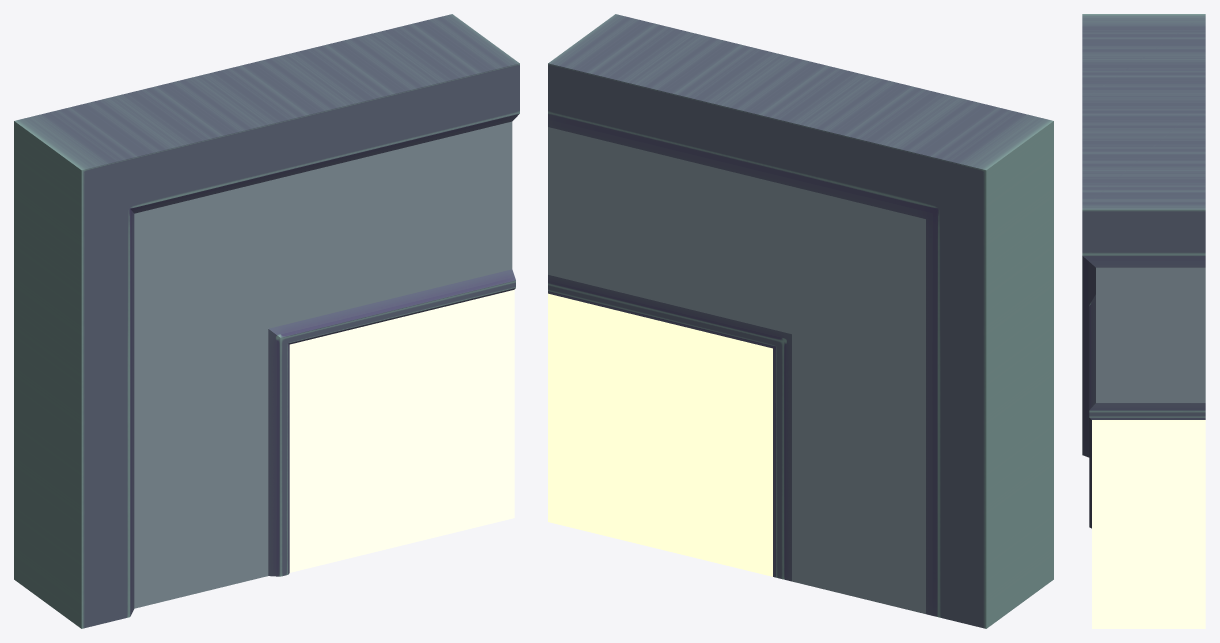
Rendered from celling1_low.fbx.
3 views of the same model, side by side, from view 1: azimuth 30°, elevation 25°; view 2: azimuth 150°, elevation 25°; view 3: azimuth 270°, elevation 25° (orthographic). The views are drawn at different scales.
Parts seen in each view (by area): view 1: celling1_low; view 2: celling1_low; view 3: celling1_low.
Part boxes in pixels (x1,y1,x2,y2): celling1_low: (14,14,519,628); celling1_low: (548,14,1053,628); celling1_low: (1082,14,1205,628).
Size of the model in its own units: 150 by 150 by 40.
